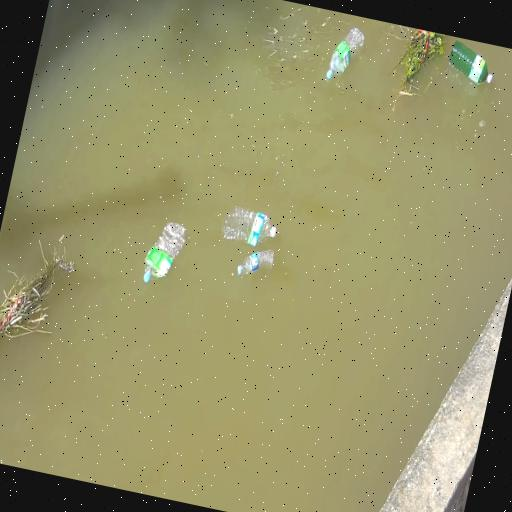plastic: (138, 210, 190, 292), (320, 18, 372, 89), (216, 198, 280, 252), (441, 37, 500, 89), (224, 237, 281, 285)
twig: (0, 226, 66, 377), (390, 26, 446, 98)
